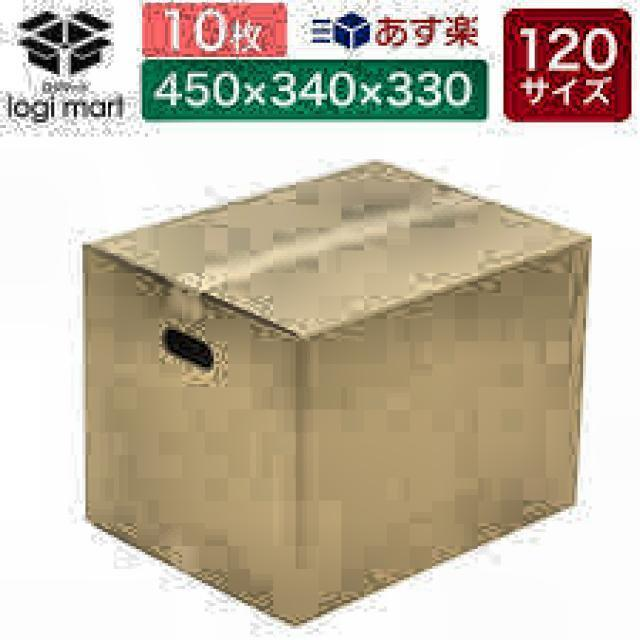cardboard: (79, 156, 592, 626)
